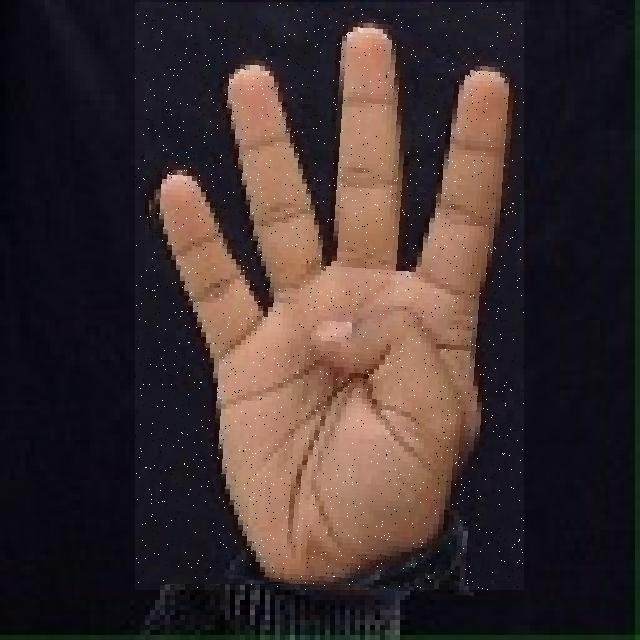Thanks: (135, 2, 524, 590)
